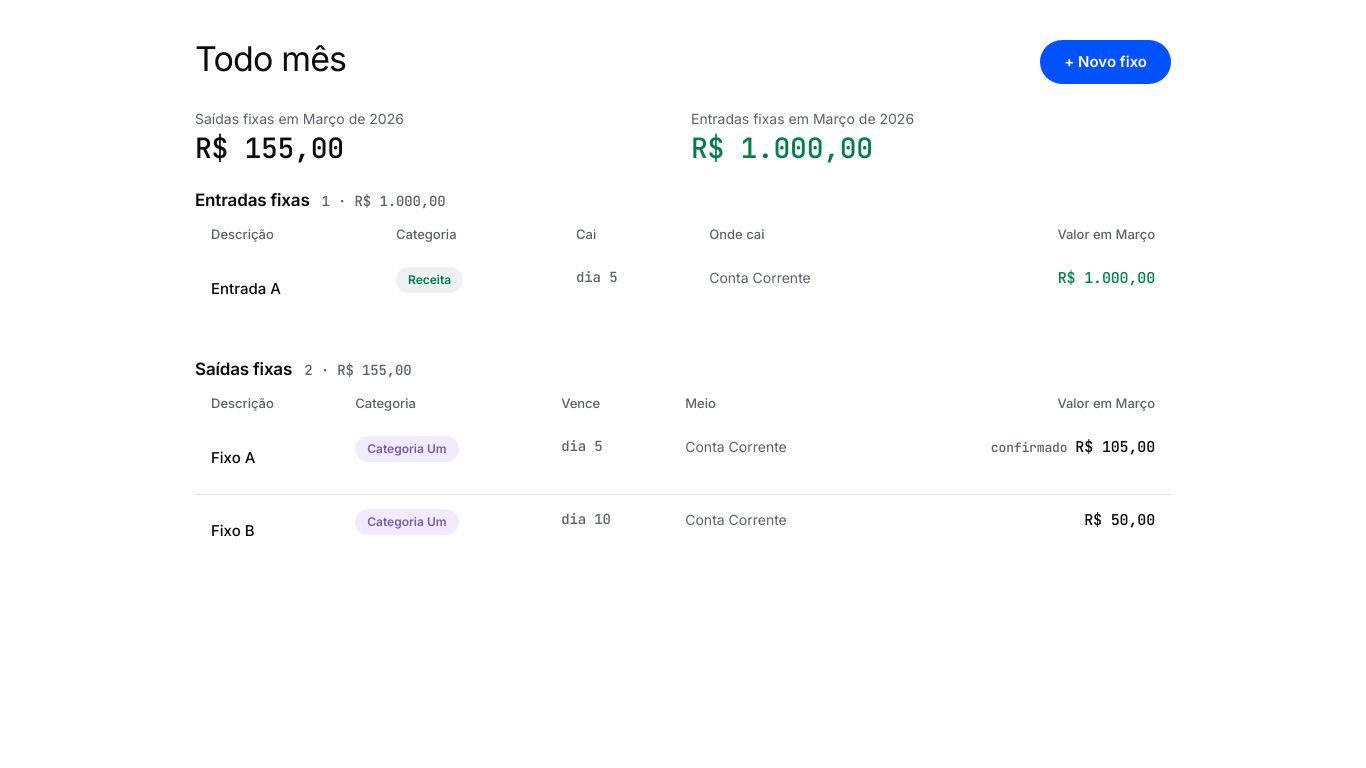
Test: fechar e o foco de volta (FIXCOL-08, AC 4; FIXCOL-09, AC 4) › "Fechar" tira `?fixo=` e devolve o foco ao botão da linha
The image size is (1366, 768).
Click the button "Fixo B" at (233,531), box [211,509,255,553]
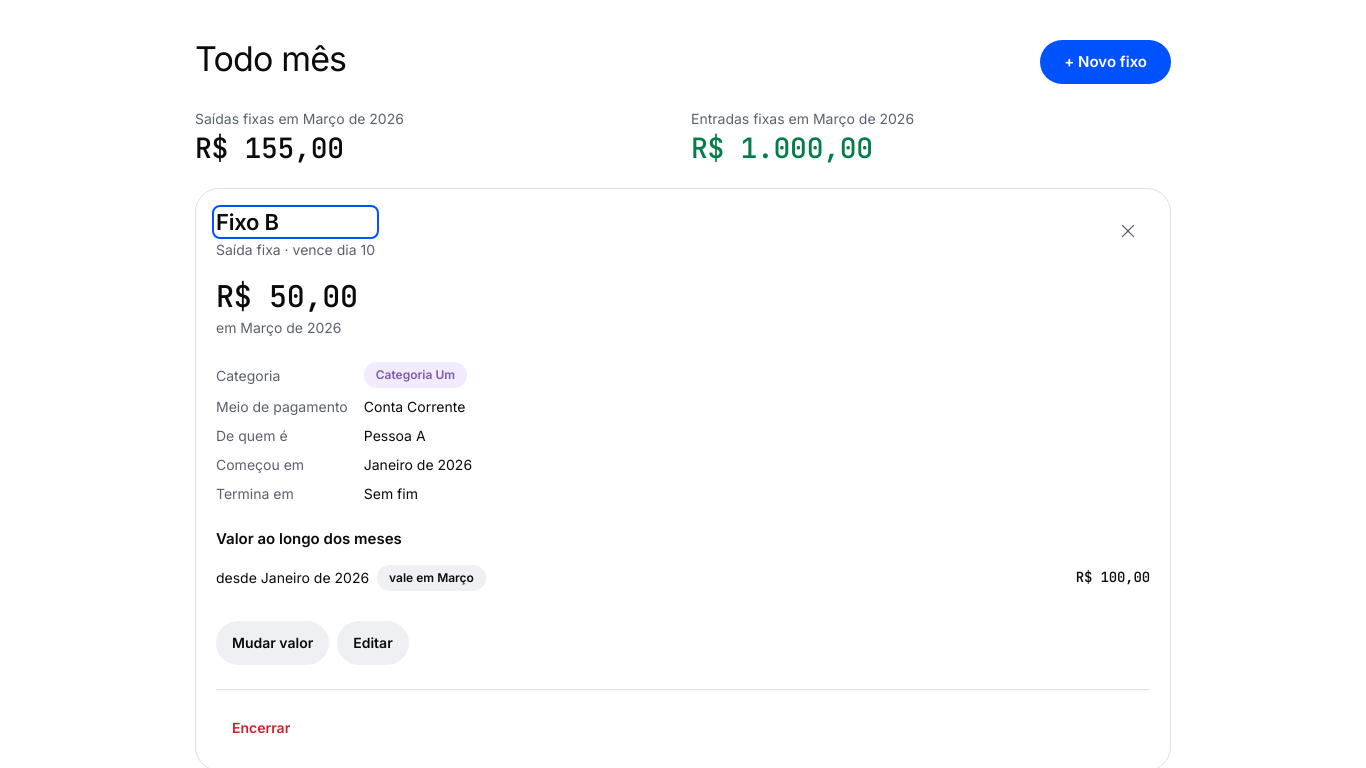
Click the button named "Fechar" at (1128,231), box [1106,209,1150,253]
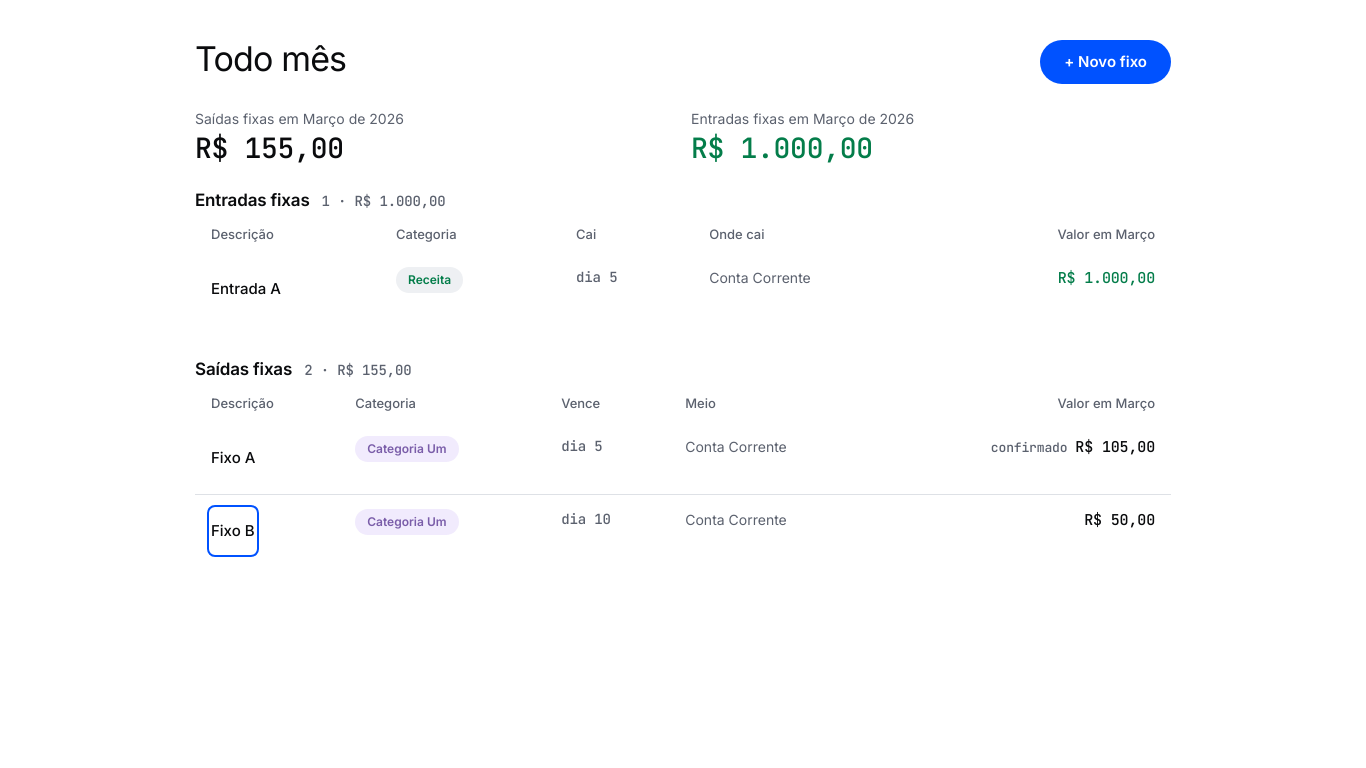
Expected: the button "Fixo B" is collapsed, [211,509,255,553]
